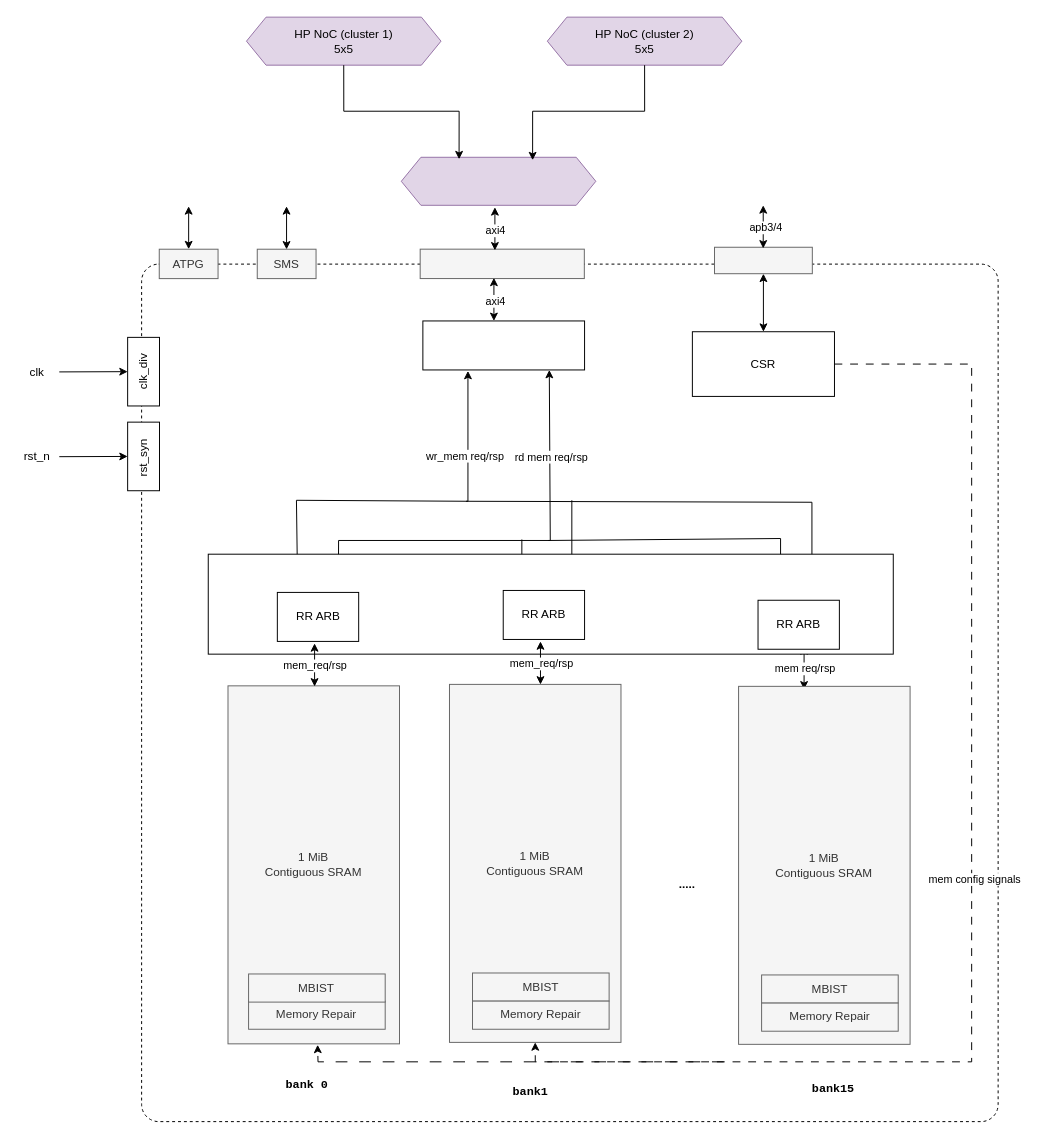
Some shapes in this 1037 by 1139 pixel diagram are drawn without their labels. The shapes that lost their labels are listed below. From the top down, each one's centre as x and y in pixels, then its label:
At pixel 498 180: "HP NoC (L2_X) 2x1".
At pixel 501 263: "512b/40b AXI Subordinate".
At pixel 763 260: "APB subordinate".
At pixel 503 345: "AXI2REG".
